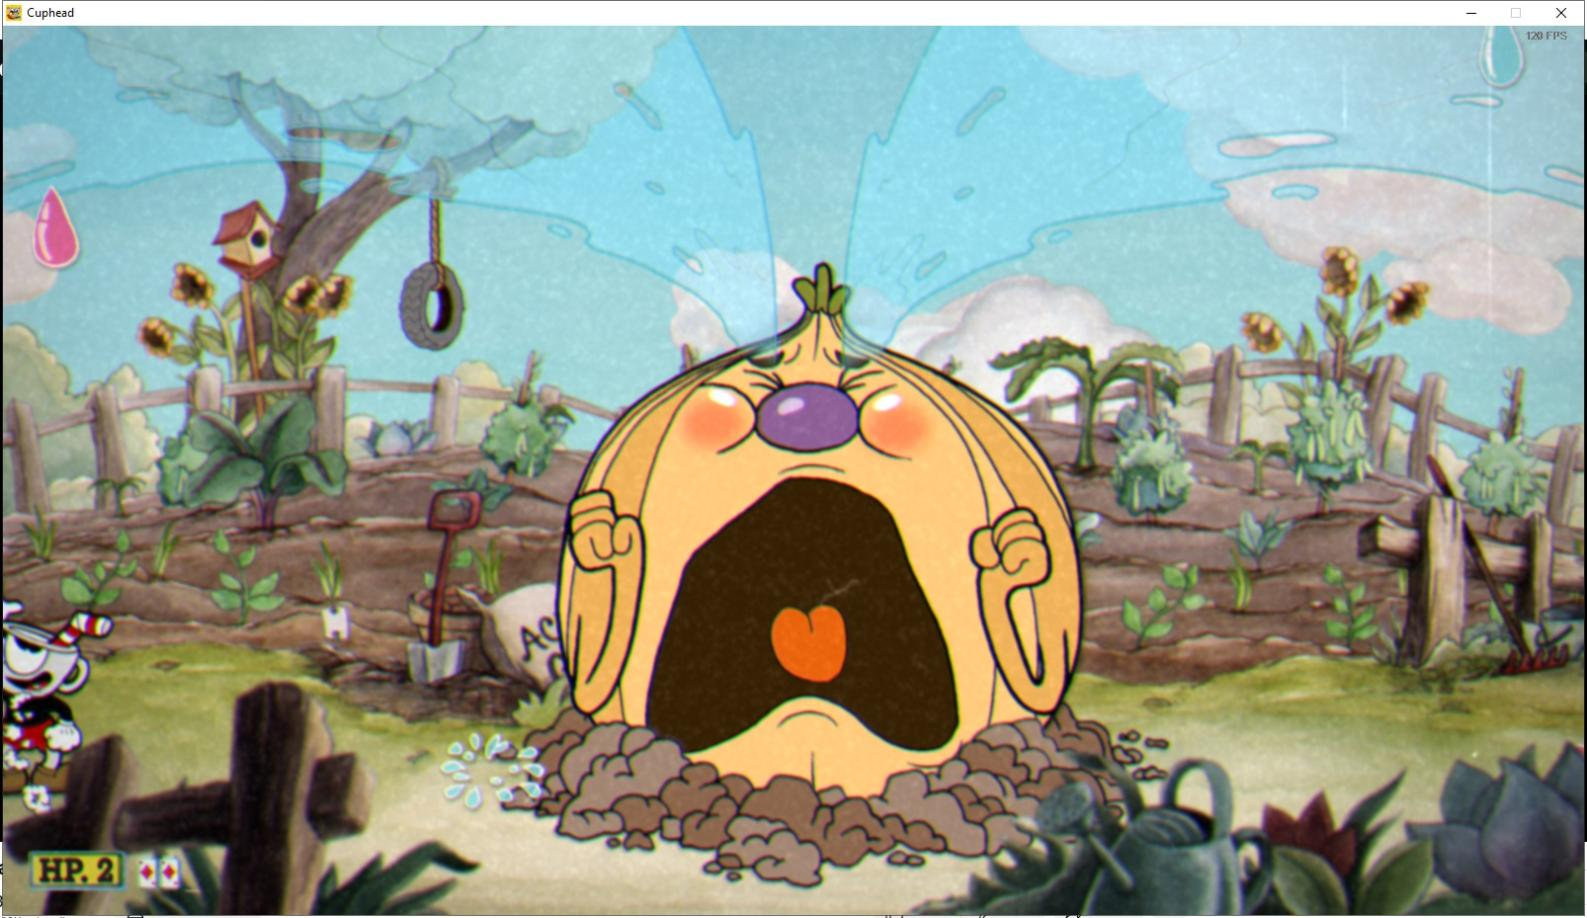hp2: (91, 854, 121, 888)
onion_boss: (540, 252, 1092, 844)
pink_rain: (27, 179, 92, 274)
player: (0, 583, 120, 800)
rain: (1477, 26, 1528, 91)
